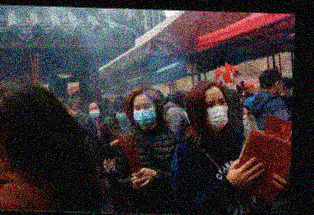with_mask: (204, 95, 230, 132), (131, 101, 157, 128), (86, 104, 101, 120), (115, 109, 128, 122)
